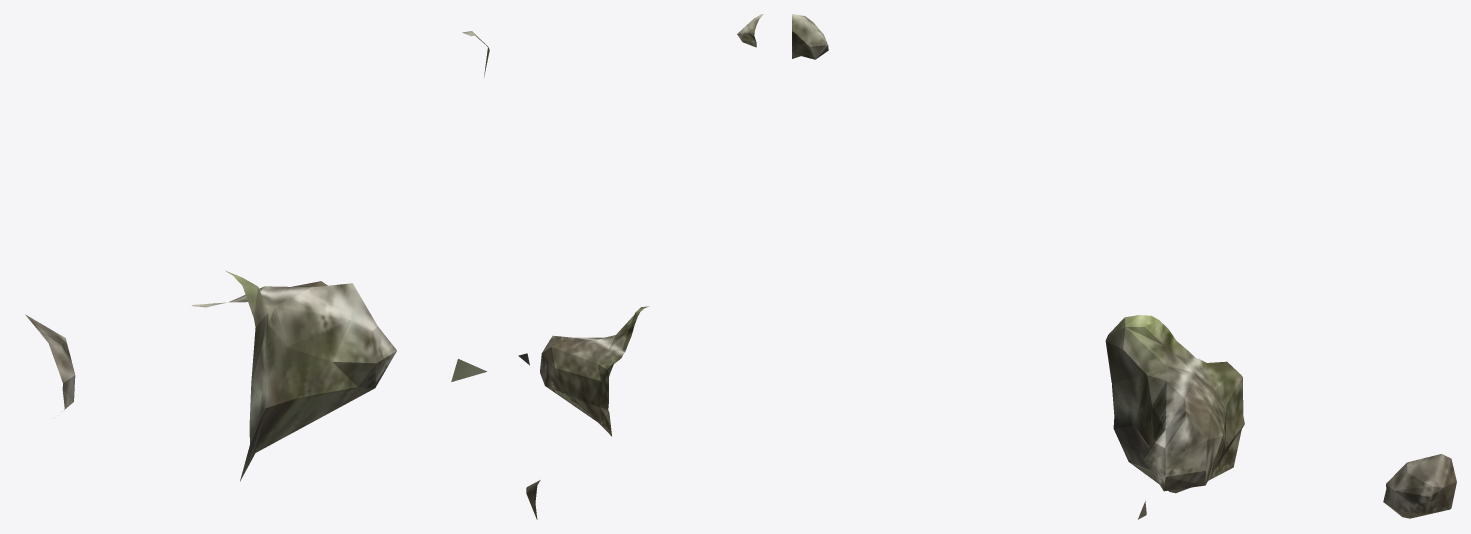
3 renders of one model, left to right at view 1: azimuth 30°, elevation 25°; view 2: azimuth 150°, elevation 25°; view 3: azimuth 270°, elevation 25°, orthographic. The views are drawn at different scales.
Size of the model in its own units: 0.8261 by 2.15 by 2.57.
Materials: 1 (1 with a texture image).
